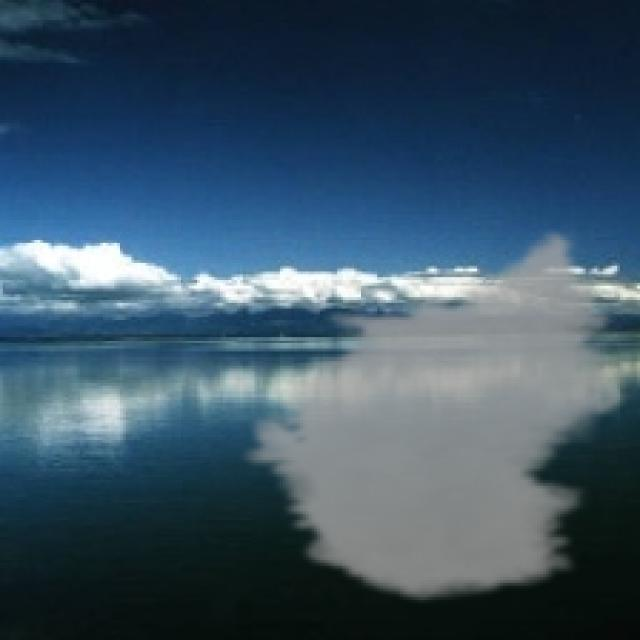Smoke: (237, 228, 637, 608)
